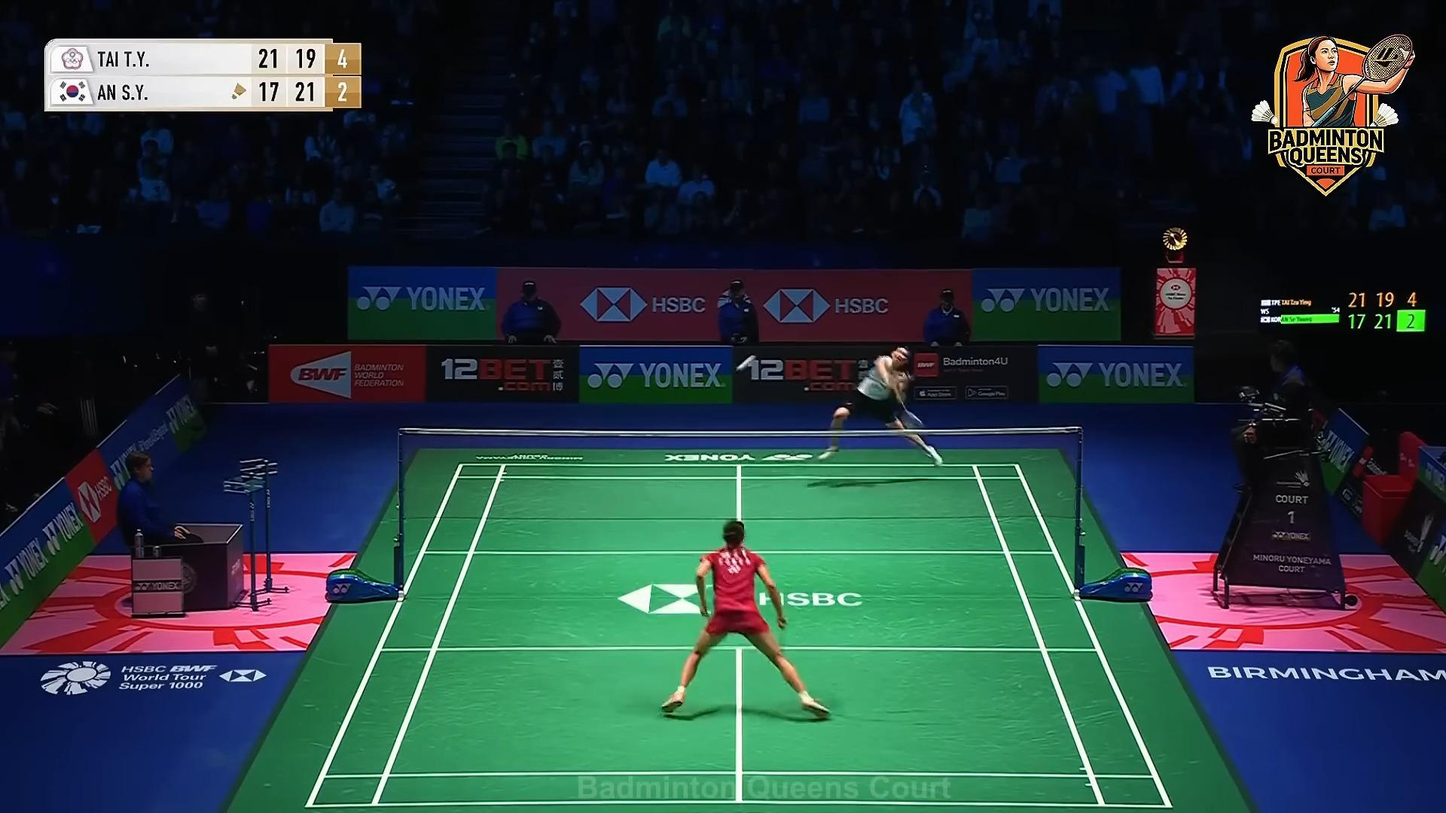player: (660, 519, 831, 722), (818, 346, 943, 467)
shuttlecock: (737, 354, 756, 372)
